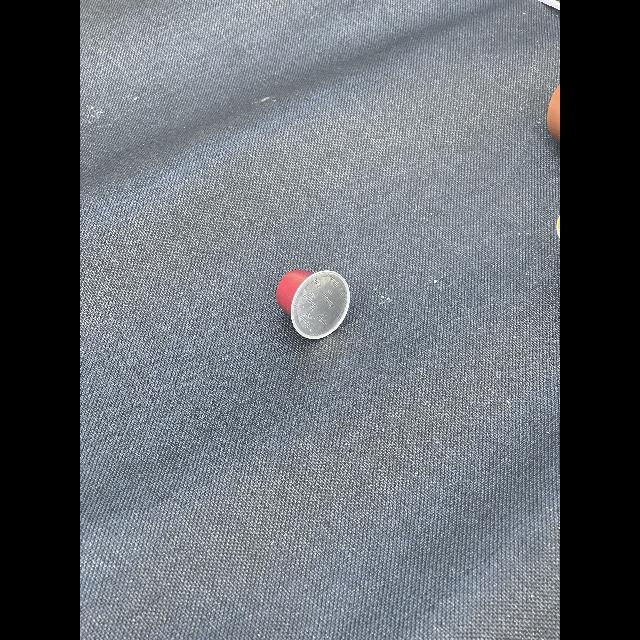intact_capsule: (270, 264, 362, 348)
